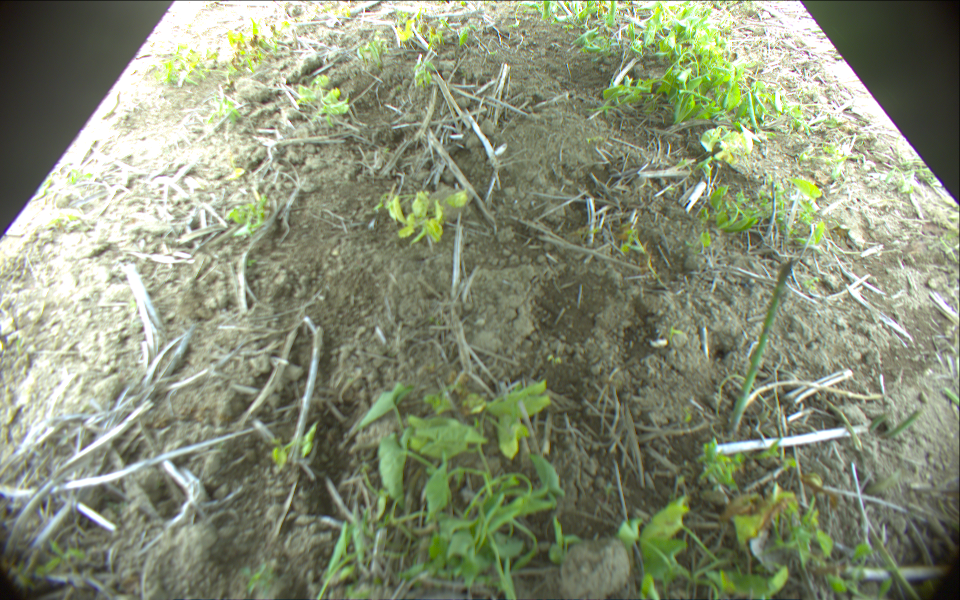aspa: (722, 258, 796, 431), (875, 409, 923, 439)
